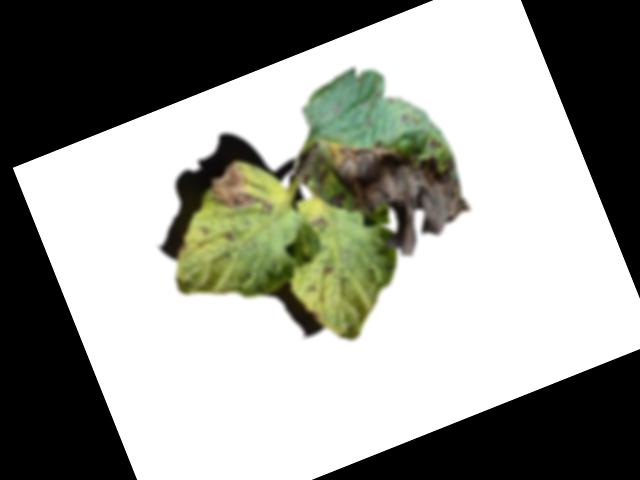Early_blight: (324, 105, 481, 271), (205, 154, 275, 233), (285, 140, 336, 198), (309, 212, 334, 237), (328, 191, 351, 213), (319, 260, 338, 276), (222, 231, 237, 247)
